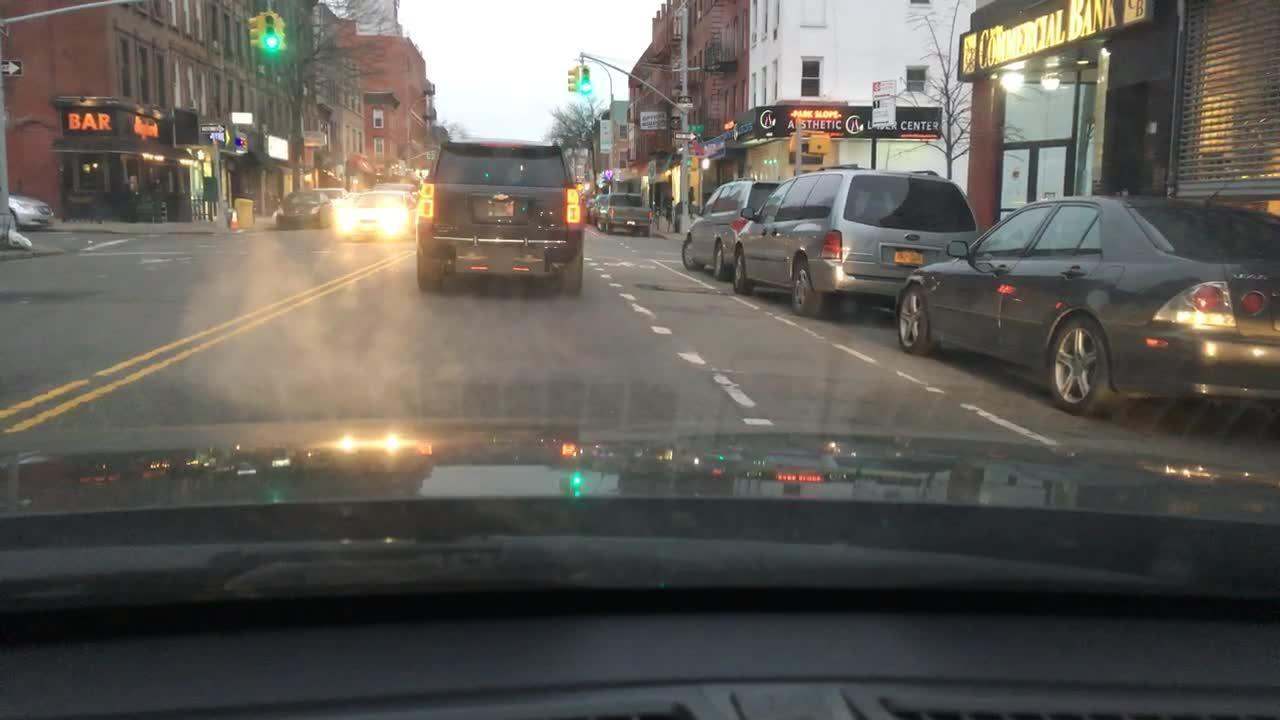chevrolet: (487, 188, 515, 205)
ford: (903, 234, 921, 243)
